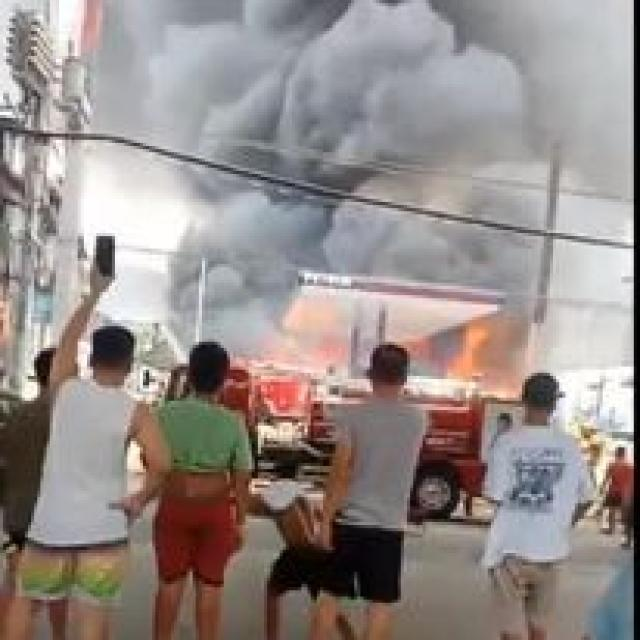Fire: (454, 332, 500, 380)
Smoke: (118, 0, 610, 188), (188, 194, 493, 276)
